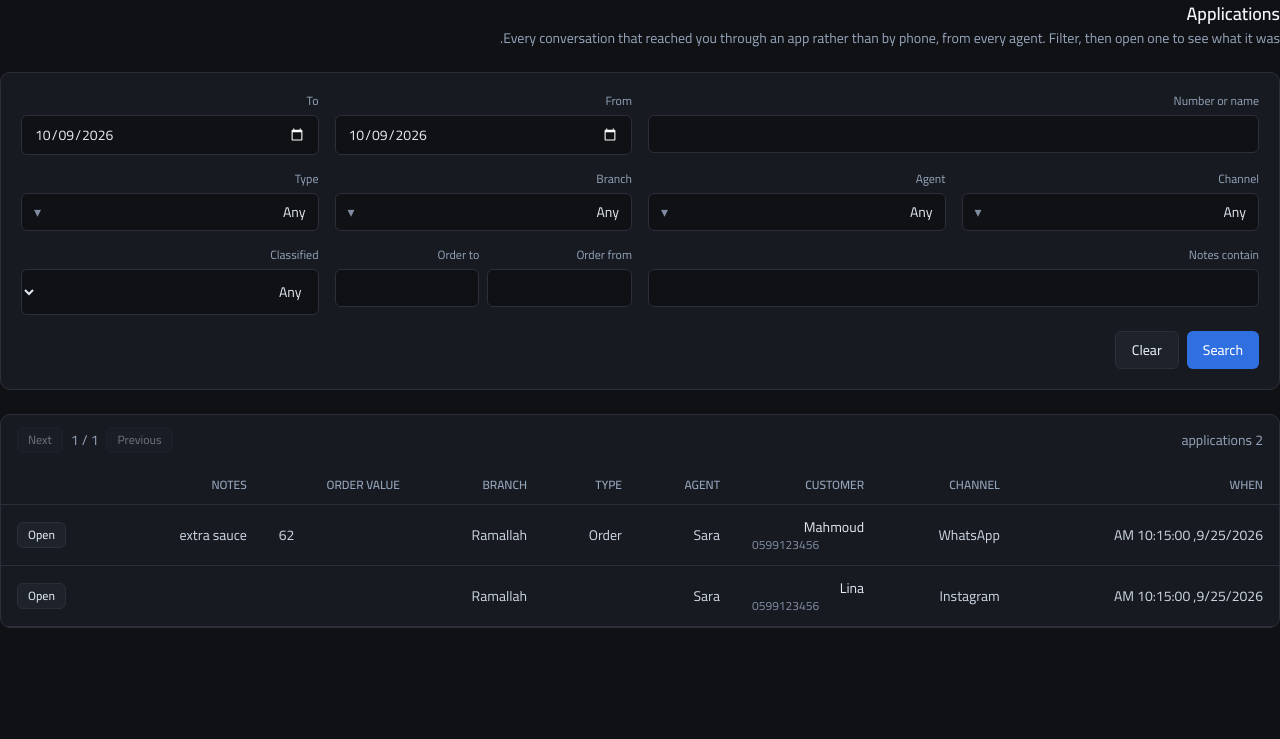
Scenario: applications page › changes the channel of an opened message, offering the app channels only
The width and height of the screenshot is (1280, 739).
Double-click the text "Mahmoud" at coordinates (640, 535), box [1, 505, 1279, 566]
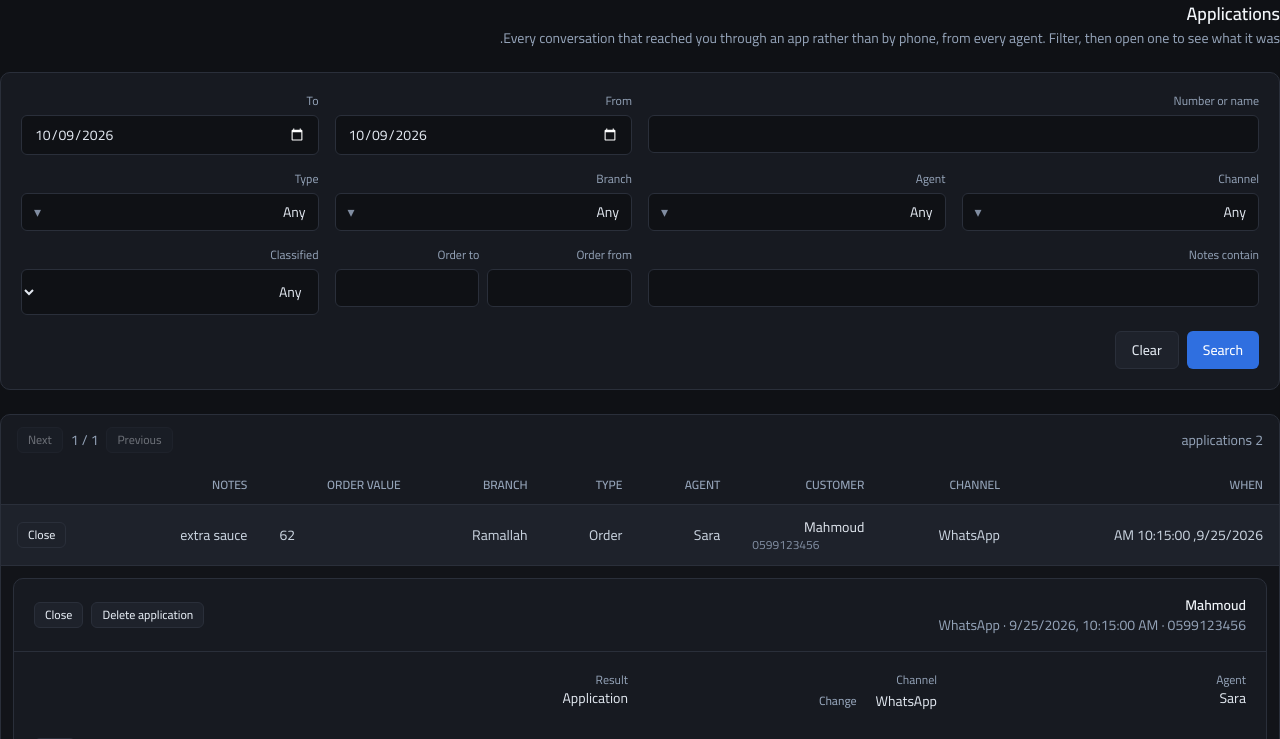
Click the button "Change". click: coordinates (838, 701)
box: [808, 688, 868, 714]
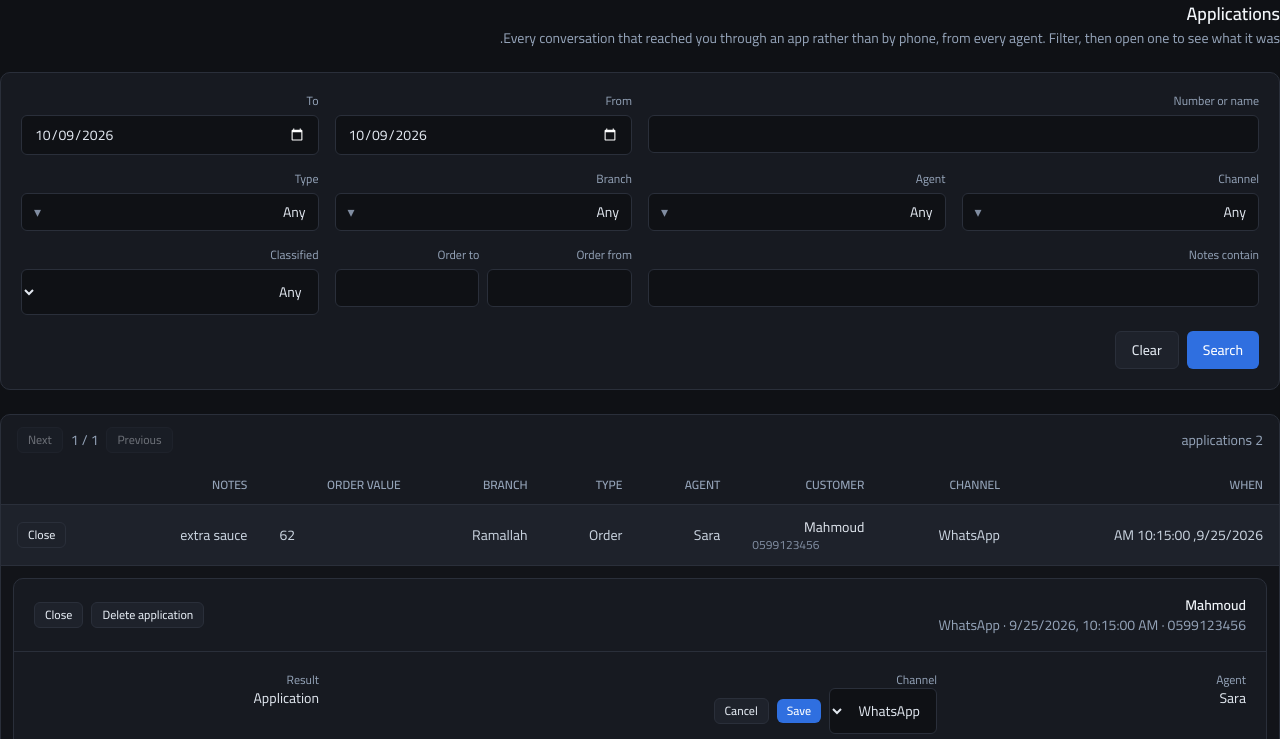
Select "Instagram" in the dropdown labelled "Channel". click: coordinates (883, 711)
box: [829, 688, 937, 734]
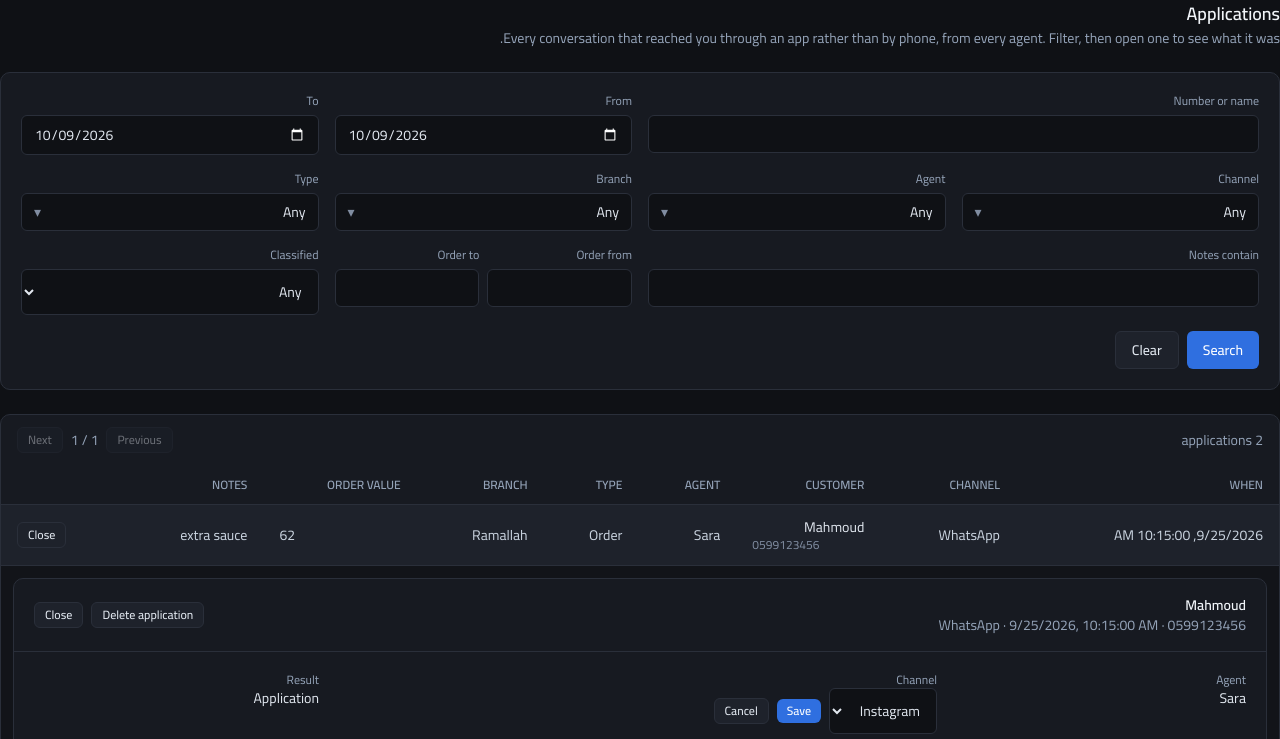
Click the button "Save". click: coordinates (799, 711)
box: [777, 699, 821, 723]
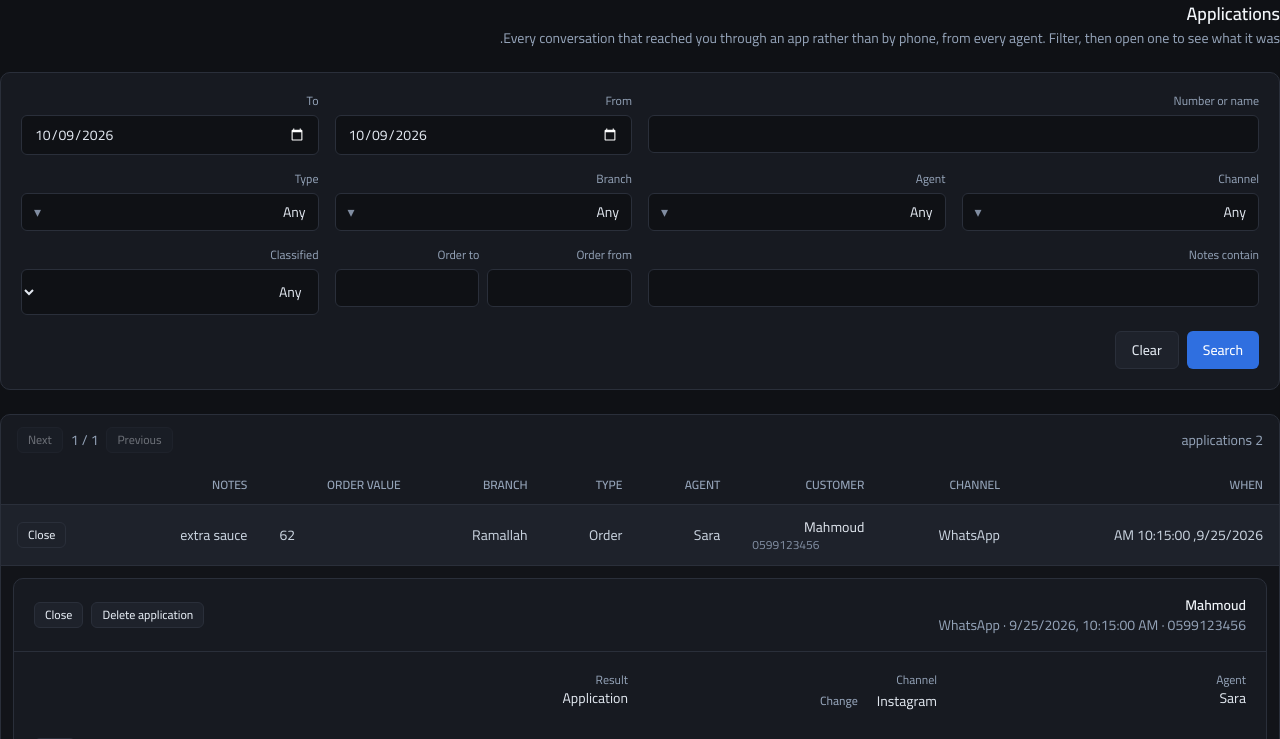
Result: the button "Change" is shown at [809, 688, 869, 714]
Result: the text "Instagram" is shown at [877, 688, 937, 714]
